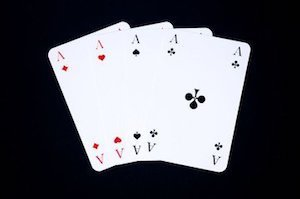AceOfClubs: (148, 28, 246, 171)
AceOfDiamonds: (48, 36, 99, 181)
AceOfHearts: (97, 32, 129, 150)
AceOfSpades: (125, 26, 148, 165)
